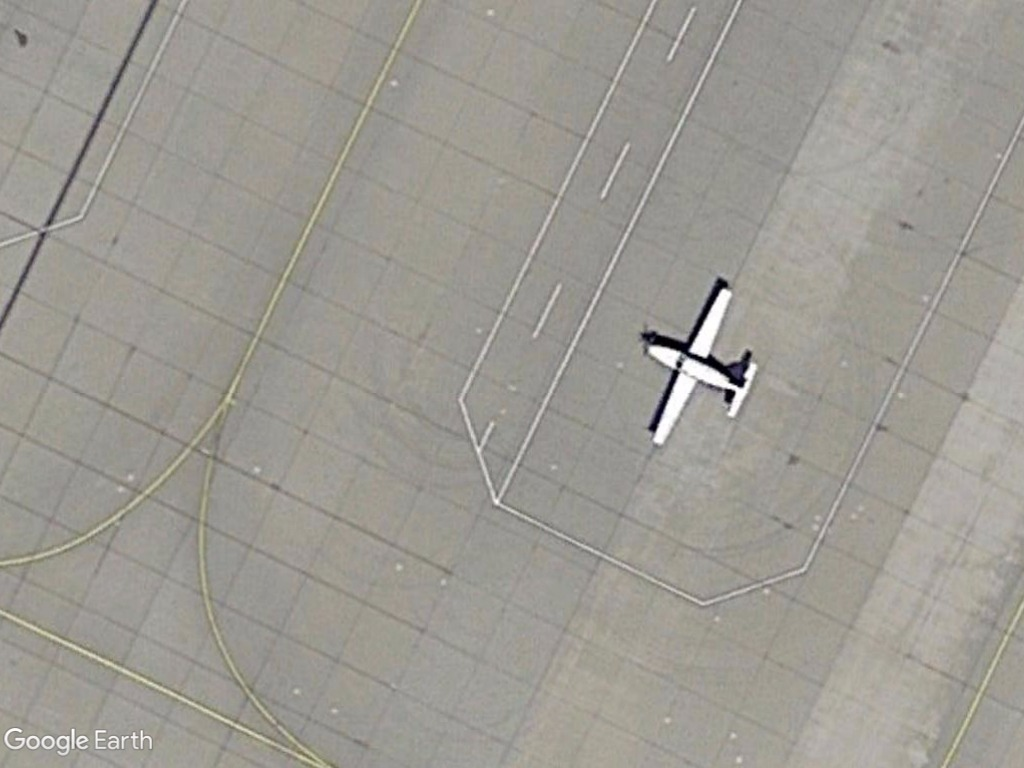trainer: (635, 277, 759, 455)
